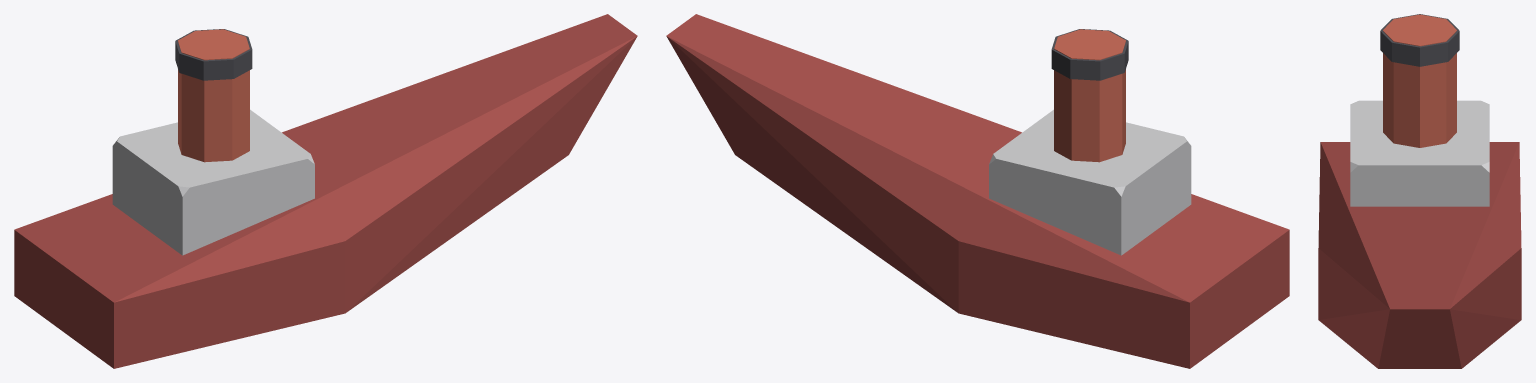
3 views of the same model, side by side, from view 1: azimuth 30°, elevation 25°; view 2: azimuth 150°, elevation 25°; view 3: azimuth 270°, elevation 25° (orthographic).
Parts seen in each view (by area): view 1: part0, part1, part2, part3; view 2: part0, part1, part2, part3; view 3: part0, part1, part2, part3.
Boxes of the visible parts, left/top/right/bottom form: part0: left=14, top=14, right=637, bottom=368; part1: left=112, top=109, right=314, bottom=255; part2: left=178, top=29, right=249, bottom=162; part3: left=175, top=29, right=252, bottom=80; part0: left=666, top=14, right=1289, bottom=368; part1: left=989, top=109, right=1191, bottom=255; part2: left=1054, top=29, right=1125, bottom=162; part3: left=1051, top=29, right=1128, bottom=80; part0: left=1318, top=142, right=1521, bottom=368; part1: left=1350, top=100, right=1489, bottom=206; part2: left=1383, top=14, right=1456, bottom=147; part3: left=1380, top=14, right=1459, bottom=66.
Bounding box in the file's own units: 4.85 × 2.09 × 1.53.
